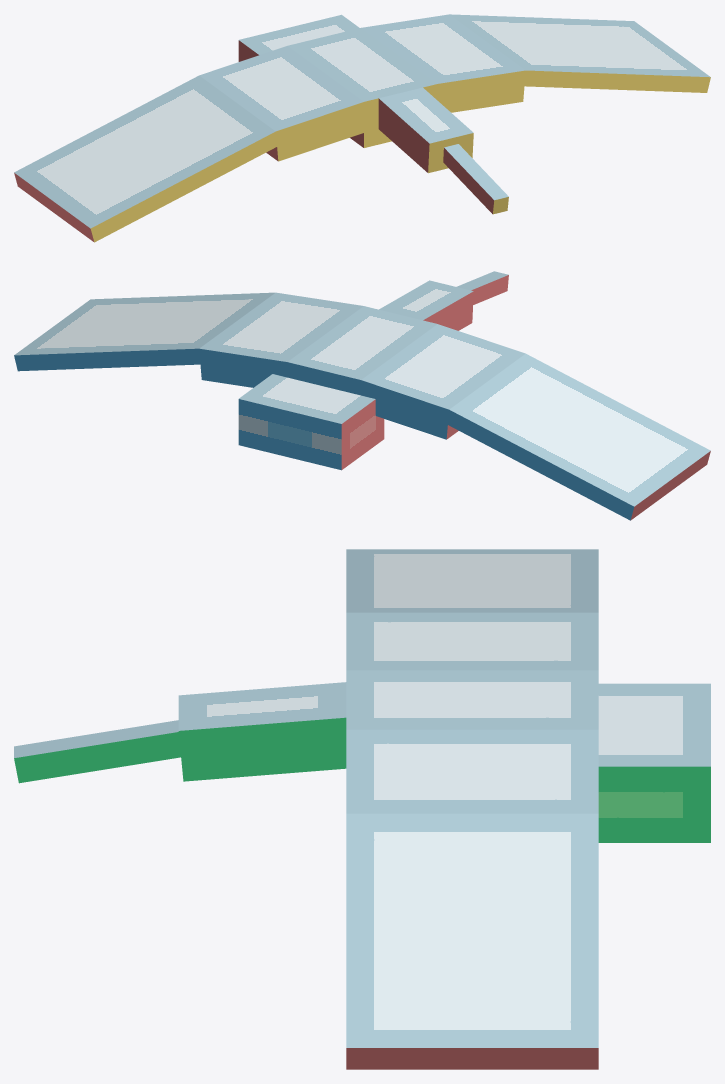
The model's file is phantom.obj.
The picture shows the model from 3 angles, top to bottom: view 1: azimuth 30°, elevation 25°; view 2: azimuth 150°, elevation 25°; view 3: azimuth 270°, elevation 25°; orthographic projection. The views are drawn at different scales.
Parts seen in each view (by area): view 1: wingtip0, wingtip1, wing0, wing1, body, tail, head, tailtip; view 2: wingtip0, wingtip1, head, wing0, wing1, body, tail, tailtip; view 3: wingtip1, wing1, head, wingtip0, body, wing0, tail, tailtip.
Part boxes in pixels (x1,y1,x2,y2): wingtip0: (14, 75, 278, 242); wingtip1: (449, 14, 710, 92); wing0: (199, 46, 364, 161); wing1: (361, 14, 525, 112); body: (287, 28, 437, 147); tail: (378, 87, 473, 173); head: (238, 14, 359, 61); tailtip: (443, 144, 508, 214); wingtip0: (445, 353, 710, 520); wingtip1: (14, 292, 274, 371); head: (238, 374, 384, 470); wing0: (361, 324, 525, 439); wing1: (199, 292, 363, 387); body: (287, 306, 436, 395); tail: (379, 280, 473, 330); tailtip: (456, 271, 508, 304); wingtip1: (346, 813, 598, 1069); wing1: (346, 729, 598, 813); head: (598, 683, 710, 842); wingtip0: (346, 549, 598, 612); body: (346, 670, 598, 729); wing0: (346, 612, 598, 670); tail: (178, 682, 346, 781); tailtip: (14, 720, 180, 783).
Bounding box in the file's own units: 2.63 × 0.3033 × 1.55.
Materials: 1 (1 with a texture image).
